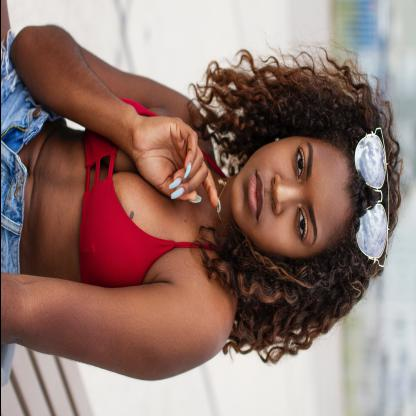Eye: (295, 206, 307, 242), (294, 146, 303, 180)
Mouth: (247, 170, 264, 222)
Nose: (270, 174, 298, 214)
